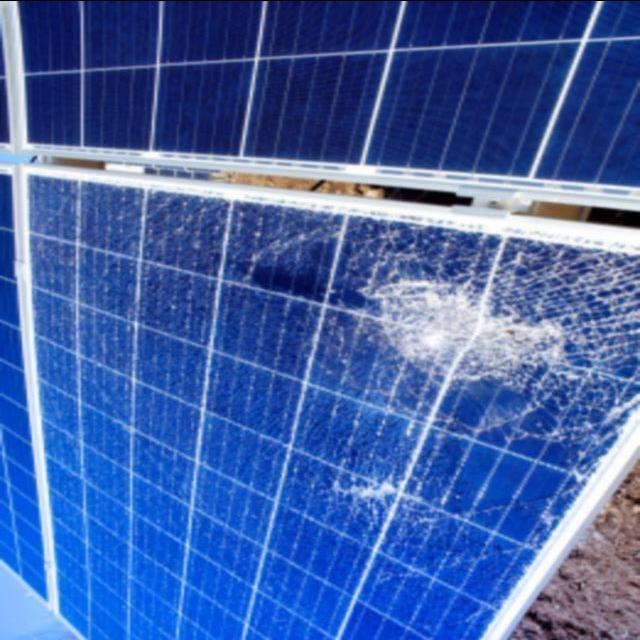cracked: (29, 171, 640, 640)
